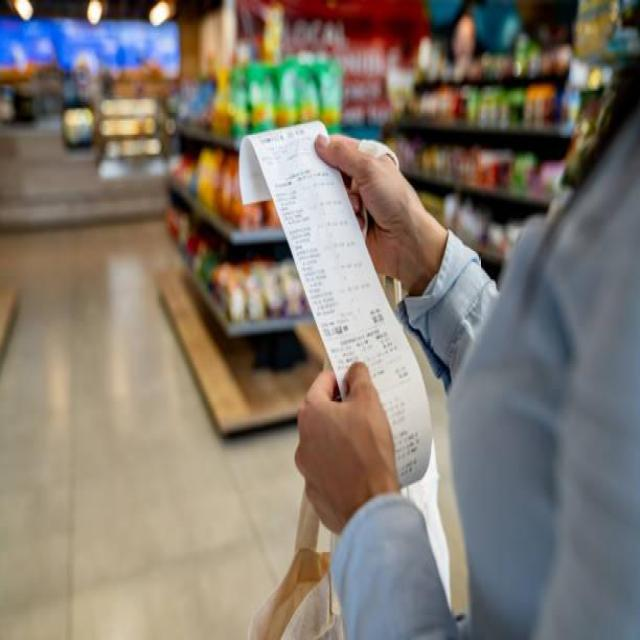hands: (315, 133, 445, 292), (294, 364, 398, 529), (351, 196, 357, 210)
